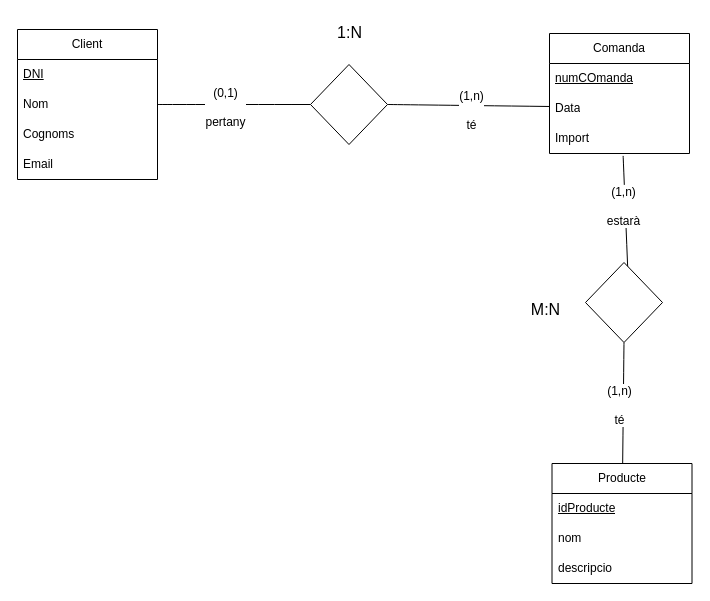
Image size: 710x601. Some labels were removed from this diagram. Here are the shapes that lost their labels. From the top down, the box of each, then its label:
(310, 64, 388, 144): E .............
(584, 262, 662, 342): E ............. LiniaComanda
